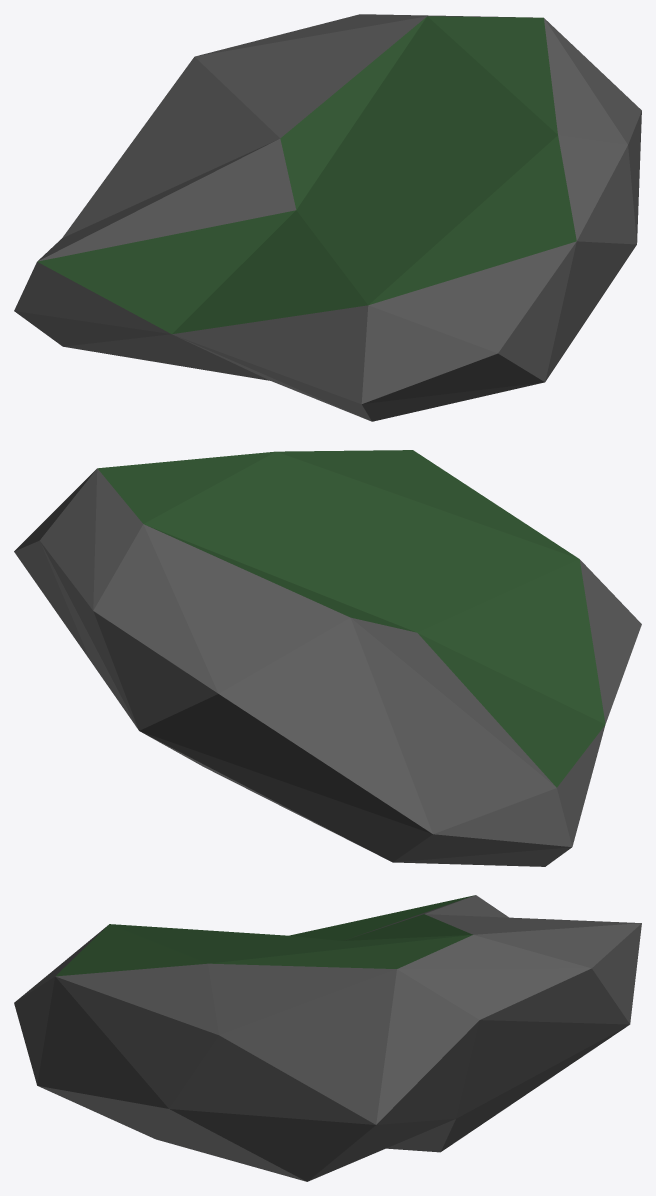
Rendered from rock3.fbx.
The picture shows the model from 3 angles, top to bottom: view 1: azimuth 30°, elevation 25°; view 2: azimuth 150°, elevation 25°; view 3: azimuth 270°, elevation 25°; orthographic projection. The views are drawn at different scales.
Parts seen in each view (by area): view 1: Rock3; view 2: Rock3; view 3: Rock3.
Part boxes in pixels (box(x1,y1,x2,y2)): Rock3: box(14, 14, 641, 421); Rock3: box(14, 450, 641, 866); Rock3: box(14, 895, 641, 1181).
Bounding box in the file's own units: 235 × 103 × 213.
